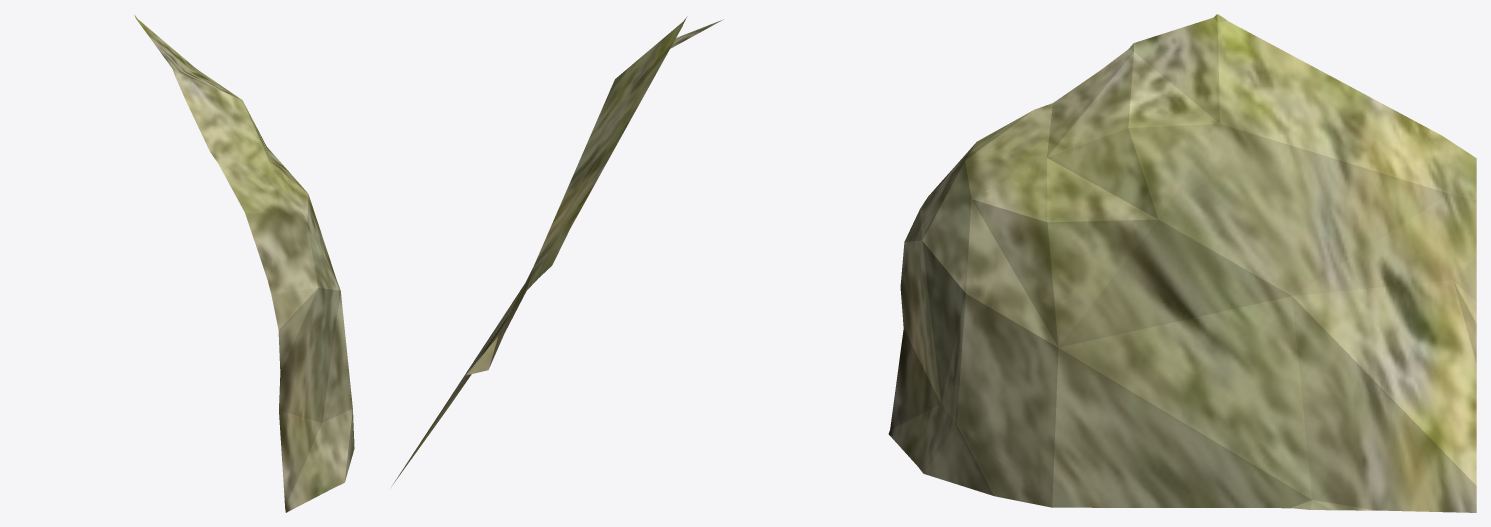
3 views of the same model, side by side, from view 1: azimuth 30°, elevation 25°; view 2: azimuth 150°, elevation 25°; view 3: azimuth 270°, elevation 25° (orthographic). The views are drawn at different scales.
Size of the model in its own units: 0.7081 by 1.76 by 2.23.
1 material, 1 textured.
